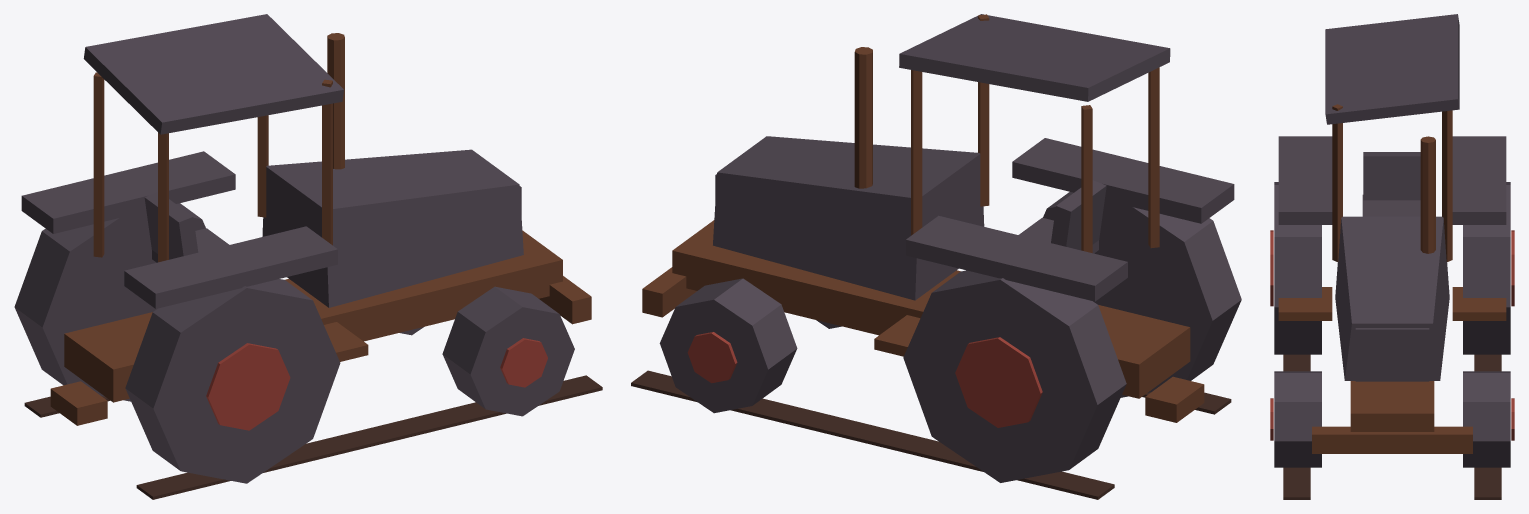
The model's file is prop.farm-tractor.burned.lod1.glb.
3 views of the same model, side by side, from view 1: azimuth 30°, elevation 25°; view 2: azimuth 150°, elevation 25°; view 3: azimuth 270°, elevation 25° (orthographic). The views are drawn at different scales.
Parts seen in each view (by area): view 1: body; view 2: body; view 3: body.
Part boxes in pixels (box(x1,y1,x2,y2)): body: box(14, 14, 602, 499); body: box(631, 14, 1241, 499); body: box(1270, 14, 1514, 499).
Size of the model in its own units: 3.96 by 2.92 by 2.05.
